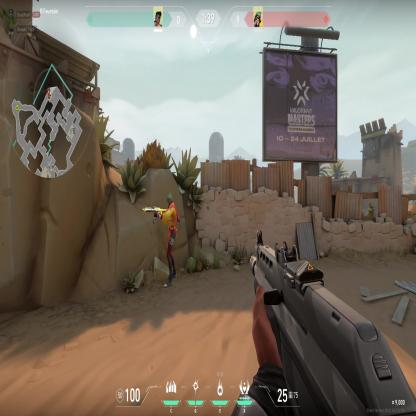enemy: (153, 190, 180, 290)
